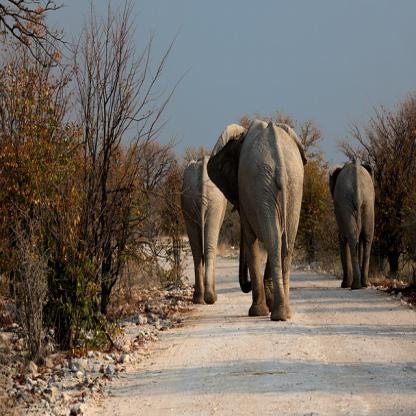elephant: (212, 115, 306, 332), (177, 150, 227, 306), (328, 165, 378, 299)
